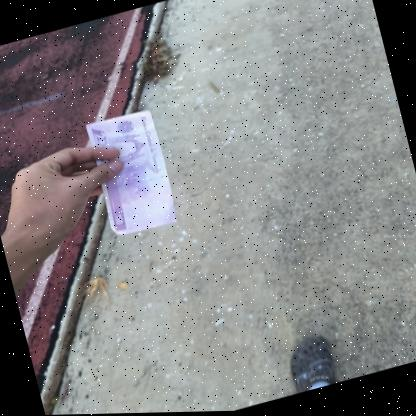one_hundred-back-vef: (84, 108, 180, 241)
